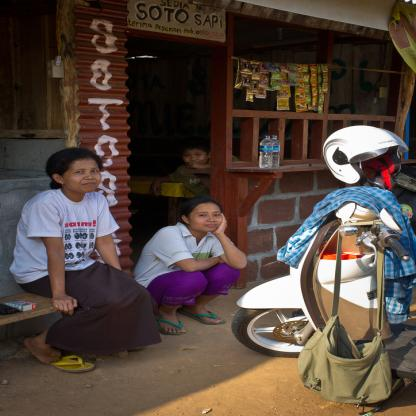Helmet: (323, 125, 412, 189)
